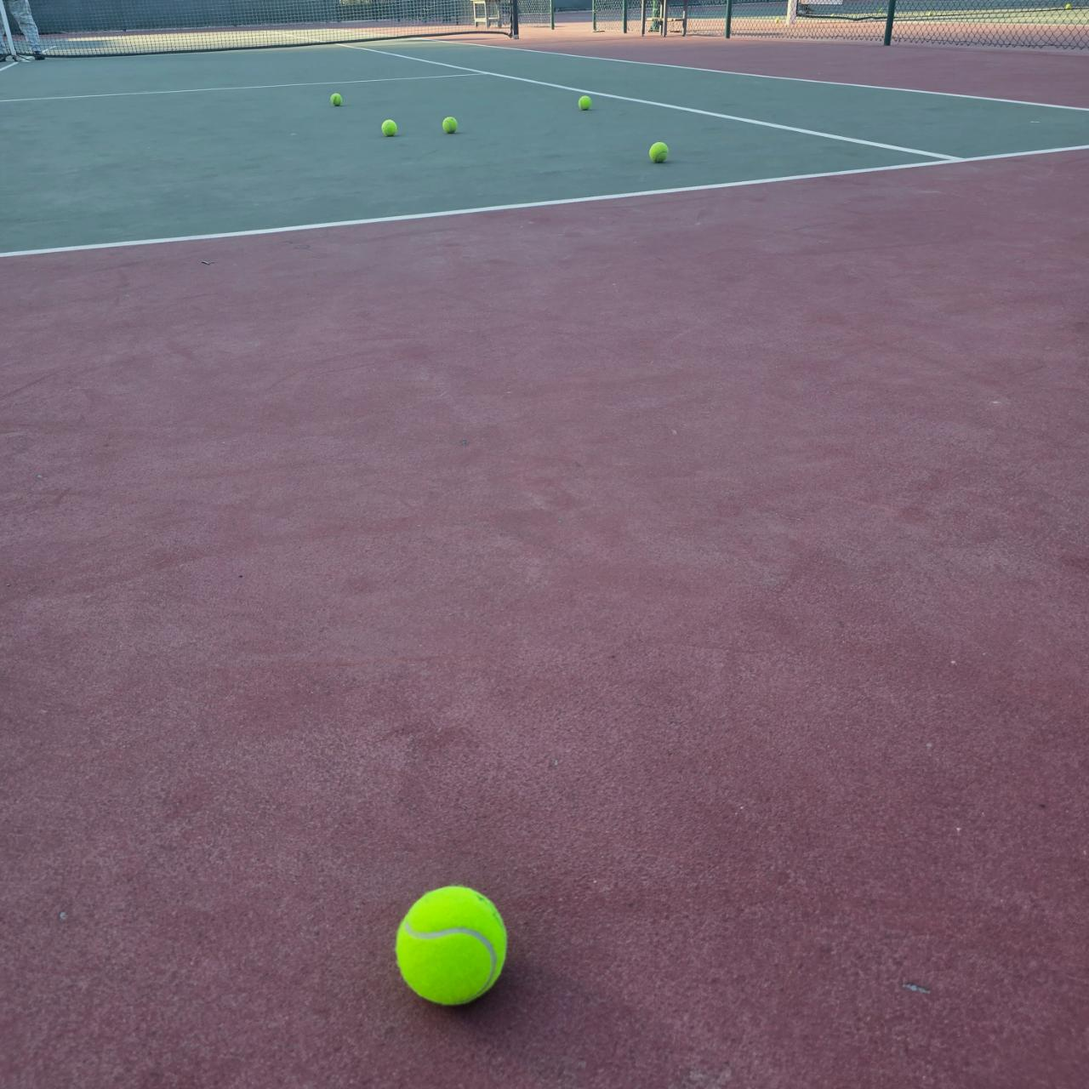tennis-ball: (393, 881, 509, 1007), (647, 140, 669, 162), (381, 118, 397, 136), (442, 116, 458, 134), (578, 95, 592, 111), (330, 93, 343, 106)
